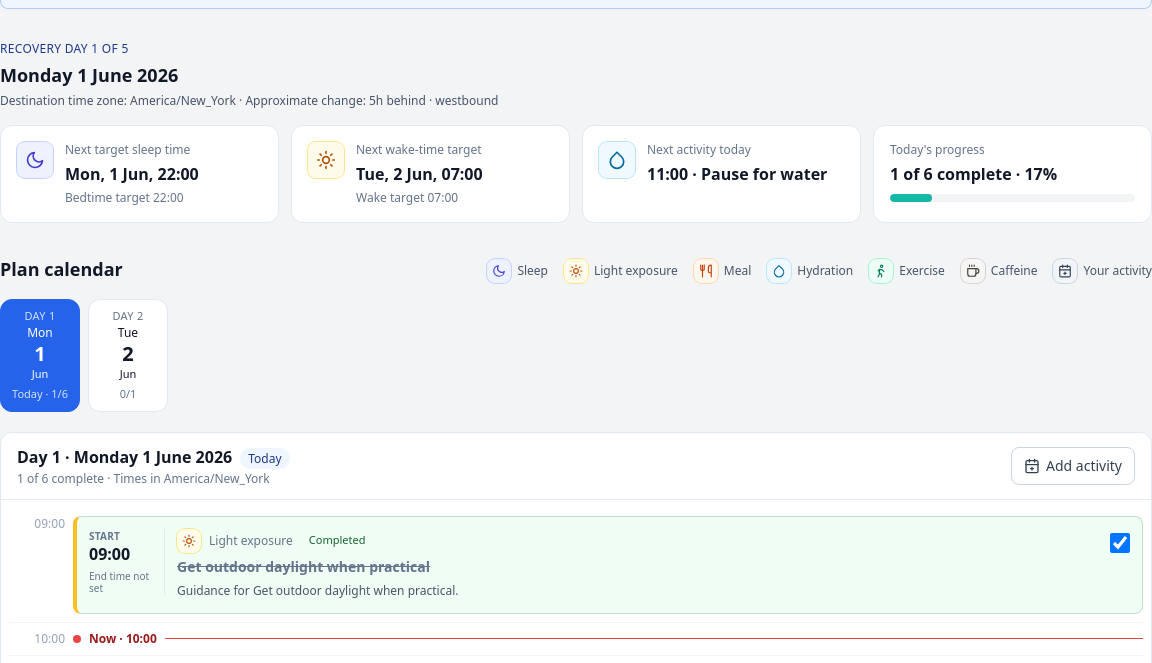
DailyDashboard personal activities › checks that the activity ends after it starts before saving
Step 1. Click the button "Add activity" → (1073, 466), box [1011,446,1135,484]
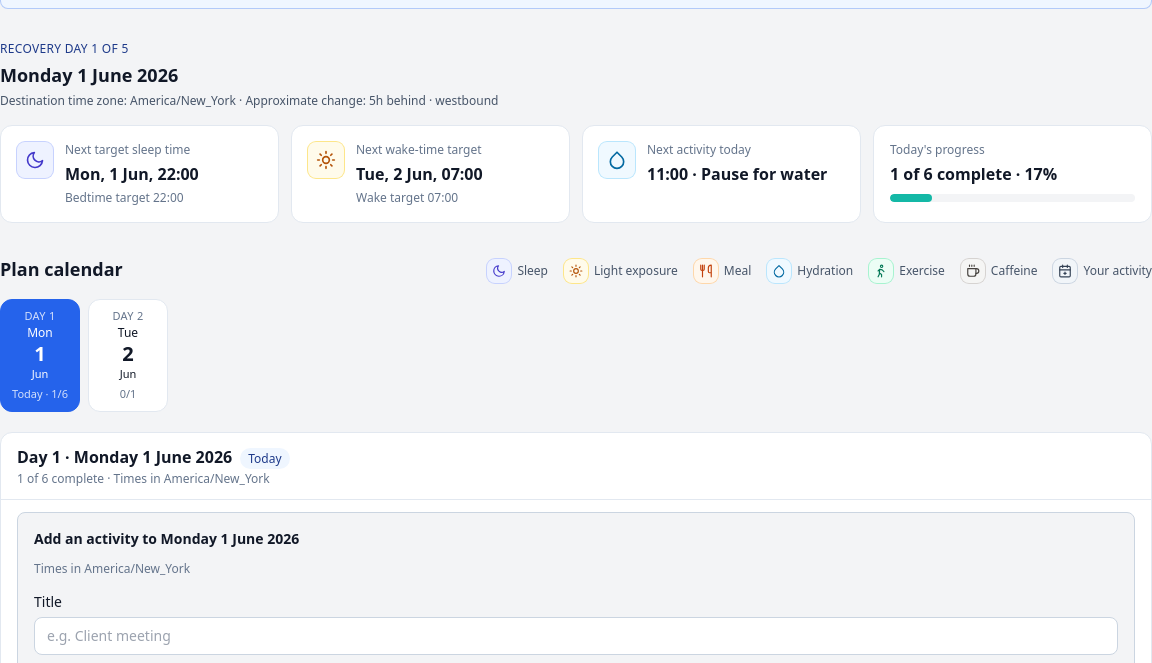
Step 2. Type "Call" into the field labelled "Title" → (576, 636), box [34,616,1118,654]
(page scrolled)
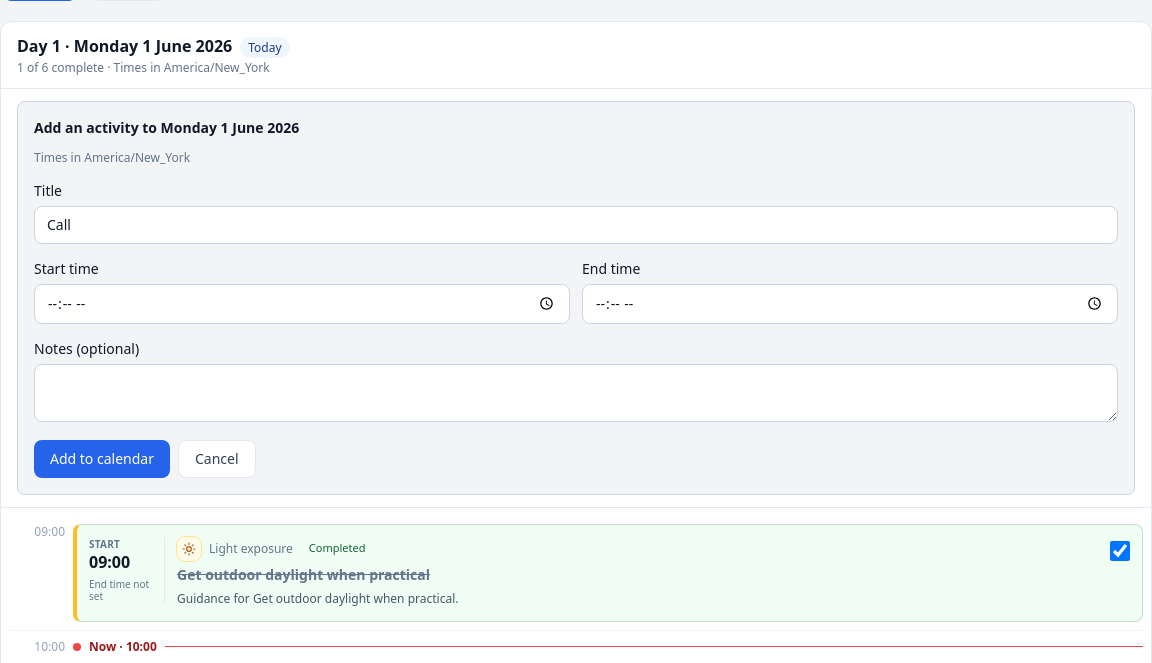
Step 3. Type "15:00" into the time field labelled "Start time" → (302, 304), box [34,284,570,324]
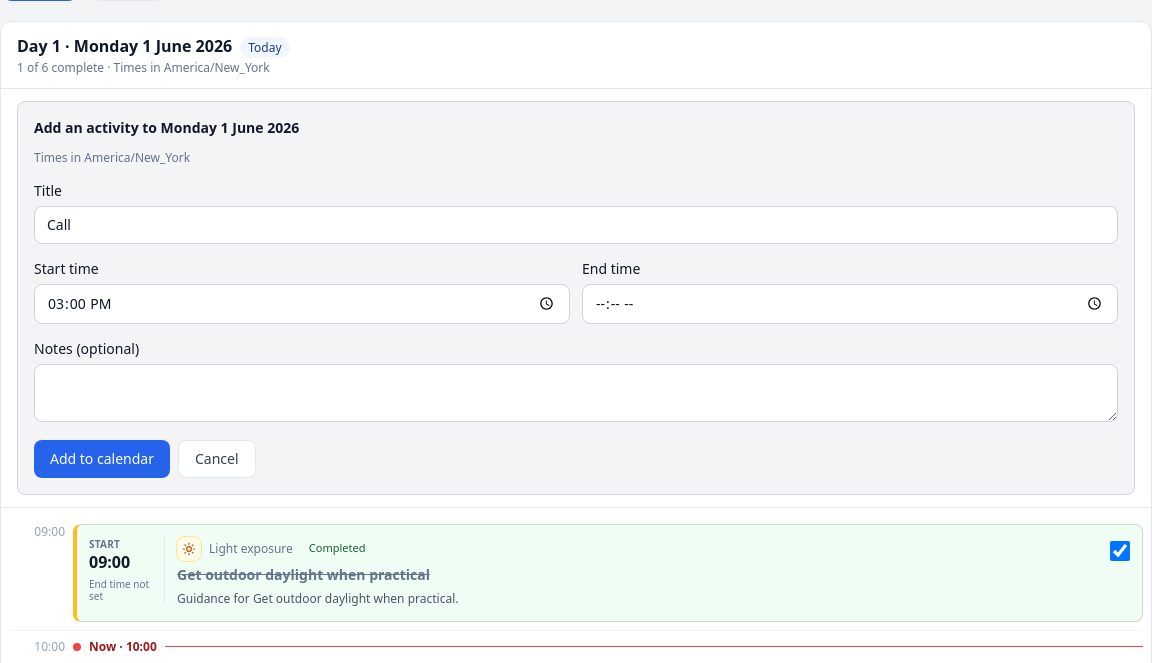
Step 4. Type "14:00" into the time field labelled "End time" → (850, 304), box [582,284,1118,324]
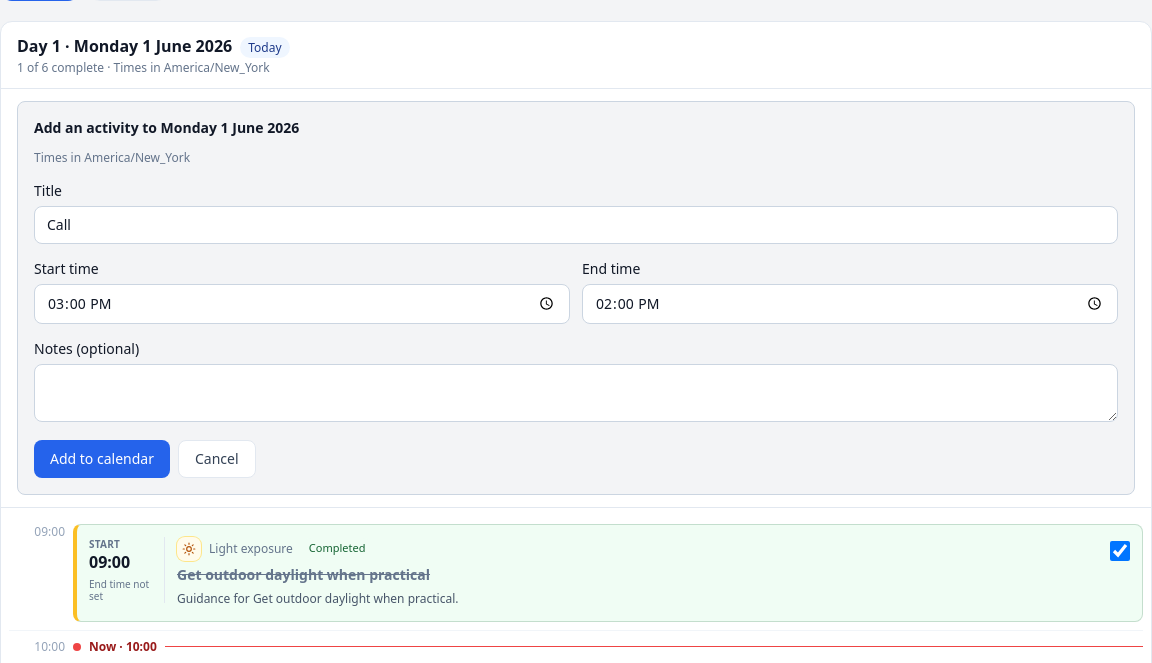
Step 5. Submit the form named "Add your activity", box [17,100,1135,494]
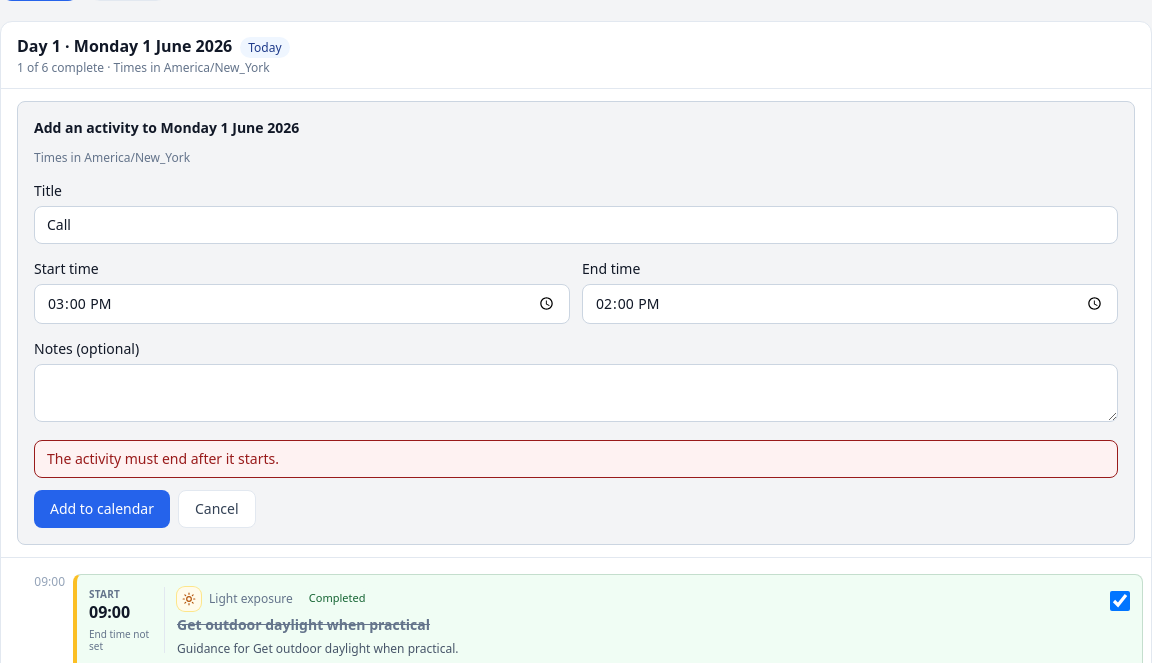
Expected: the message shows "must end after it starts", [47,448,279,468]
